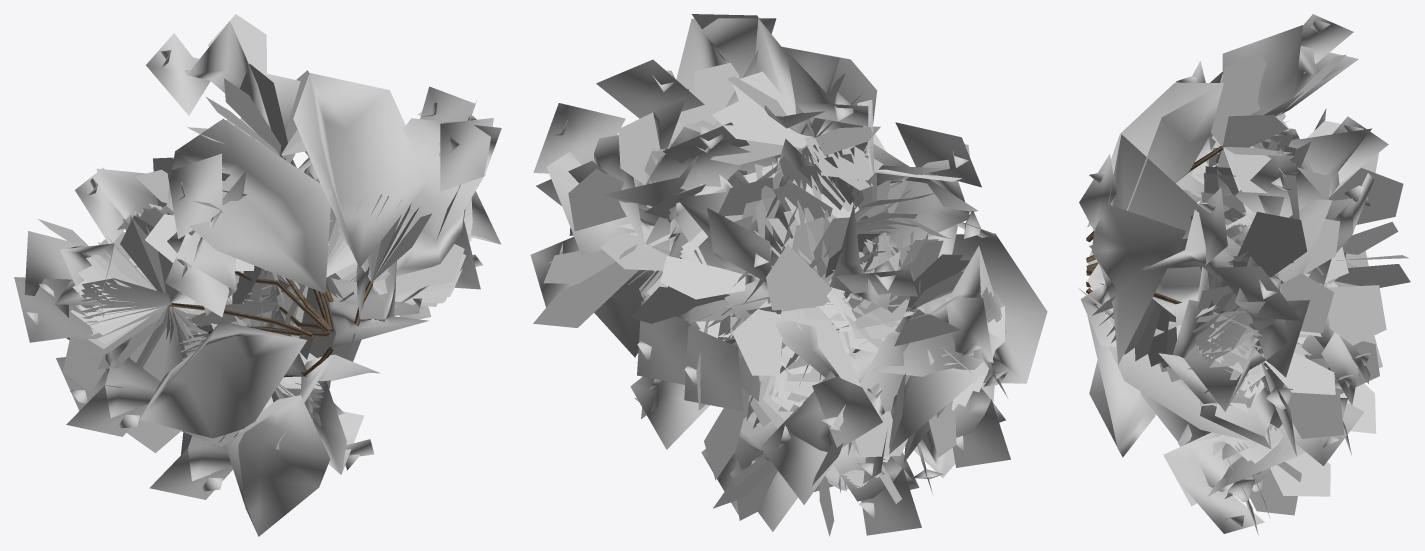
File: Bush_Hero.fbx
3 views of the same model, side by side, from view 1: azimuth 30°, elevation 25°; view 2: azimuth 150°, elevation 25°; view 3: azimuth 270°, elevation 25° (orthographic). The views are drawn at different scales.
Visible parts, largest first — view 1: LOD0; view 2: LOD0; view 3: LOD0.
Boxes of the visible parts, <box> form: LOD0: <box>14,14,501,536</box>; LOD0: <box>530,14,1047,536</box>; LOD0: <box>1078,14,1410,535</box>.
Bounding box in the file's own units: 6.53 × 6.46 × 4.07.
